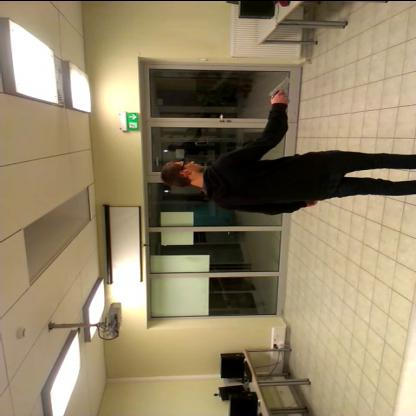Pistol: (260, 75, 294, 101)
